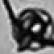not correct: (1, 0, 54, 53)
